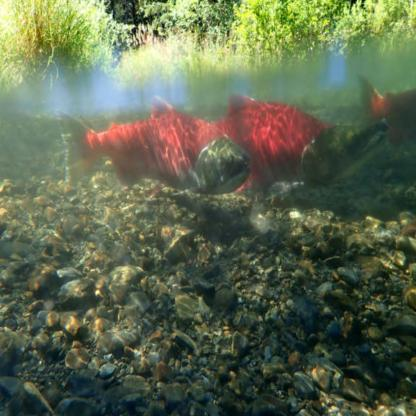sockeye: (37, 105, 246, 197), (230, 106, 386, 184)
